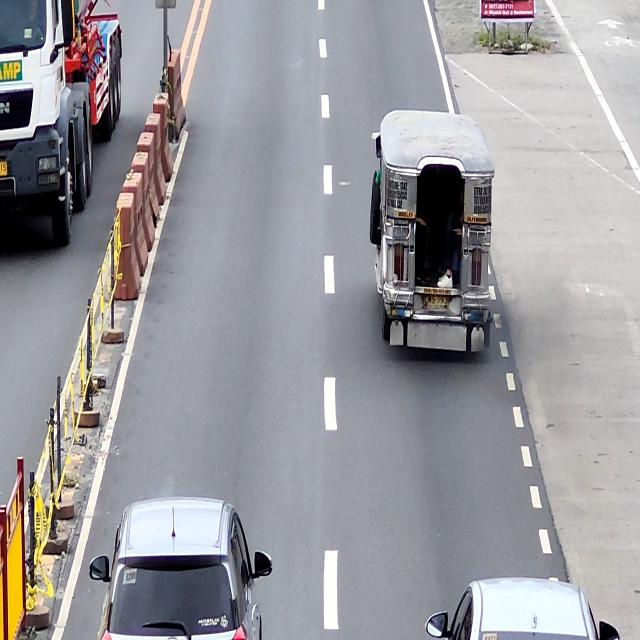Car: (88, 496, 271, 640), (428, 578, 620, 640)
Jeep: (368, 108, 498, 354)
License-Plate: (422, 296, 449, 312)
